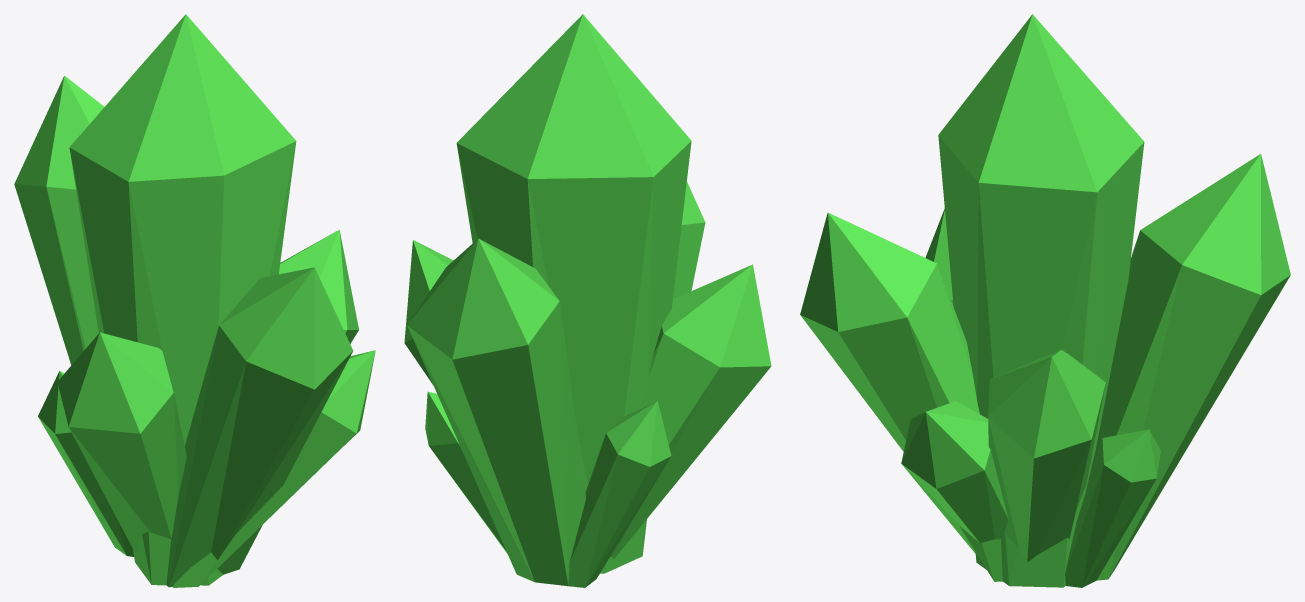
File: Crystal.fbx
3 views of the same model, side by side, from view 1: azimuth 30°, elevation 25°; view 2: azimuth 150°, elevation 25°; view 3: azimuth 270°, elevation 25° (orthographic).
Parts seen in each view (by area): view 1: Crystal.002; view 2: Crystal.002; view 3: Crystal.002.
Boxes of the visible parts, box(x1,y1,x2,y2) form: Crystal.002: box(14, 14, 375, 587); Crystal.002: box(404, 14, 771, 587); Crystal.002: box(800, 14, 1290, 587).
Size of the model in its own units: 357 by 460 by 570.
